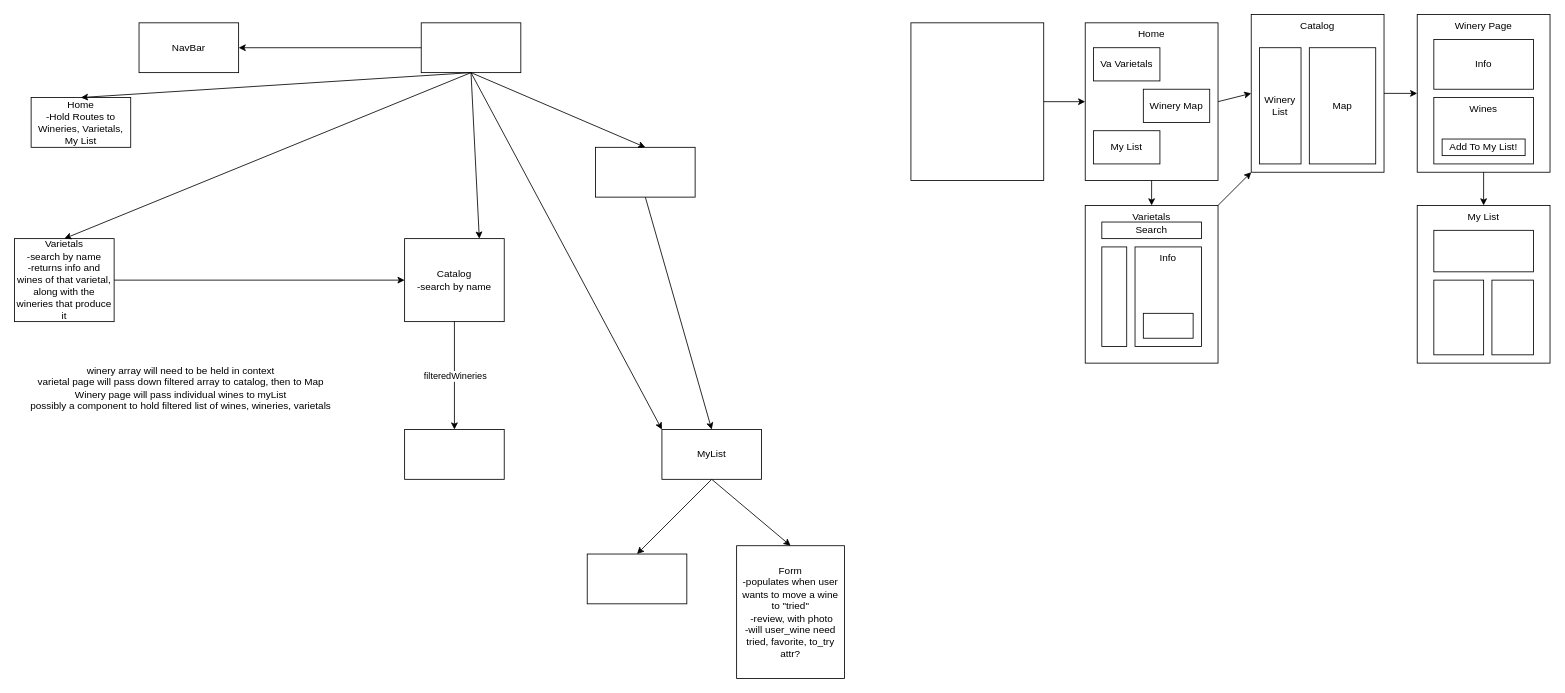
This 1565x693 diagram has some shape labels left out. The centre of each missing label's shape, as x and y in pixels:
"App" belongs at (470,47).
"Favorites" belongs at (1458,317).
"Find Wineries" belongs at (1167,325).
"List" belongs at (1114,296).
"Map -pins that filter with search" belongs at (454,454).
"MyListItem" belongs at (636,578).
"Splash" belongs at (977,101).
"To Try" belongs at (1483,250).
"Tried" belongs at (1512,317).
"Winery Page -dropdown of wines to add to list" belongs at (645,171).
